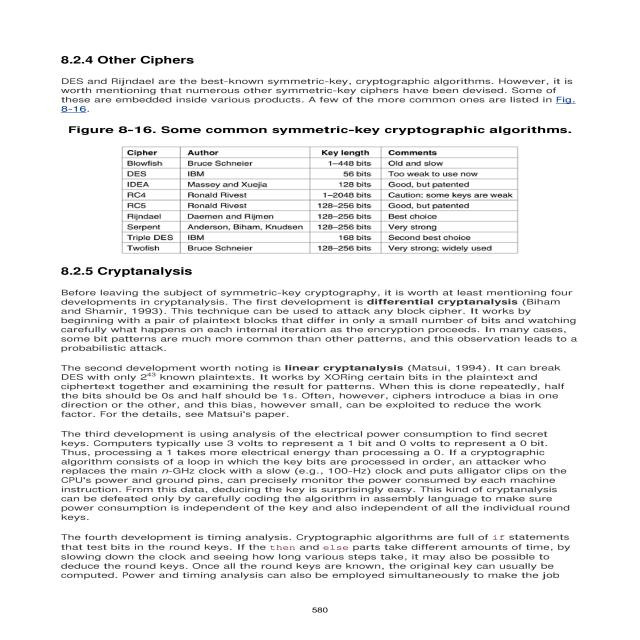diagram: (48, 121, 626, 262)
